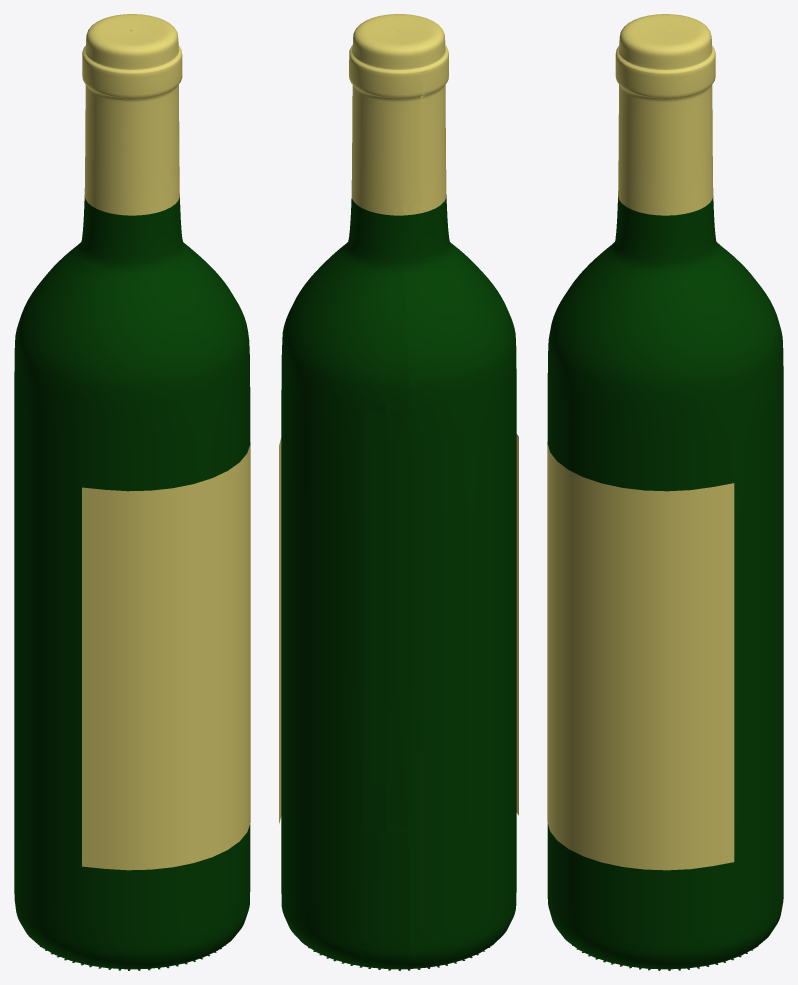
The model's file is bottle.FBX.
3 renders of one model, left to right at view 1: azimuth 30°, elevation 25°; view 2: azimuth 150°, elevation 25°; view 3: azimuth 270°, elevation 25°, orthographic.
Parts seen in each view (by area): view 1: polySurface4, polySurface75; view 2: polySurface4, polySurface75; view 3: polySurface4, polySurface75.
Boxes of the visible parts, bbox=[...] form: polySurface4: bbox=[14, 195, 250, 969]; polySurface75: bbox=[82, 14, 250, 870]; polySurface4: bbox=[281, 194, 516, 969]; polySurface75: bbox=[279, 14, 518, 823]; polySurface4: bbox=[547, 196, 783, 969]; polySurface75: bbox=[547, 14, 734, 870].
Size of the model in its own units: 5.55 by 23.25 by 5.55.
